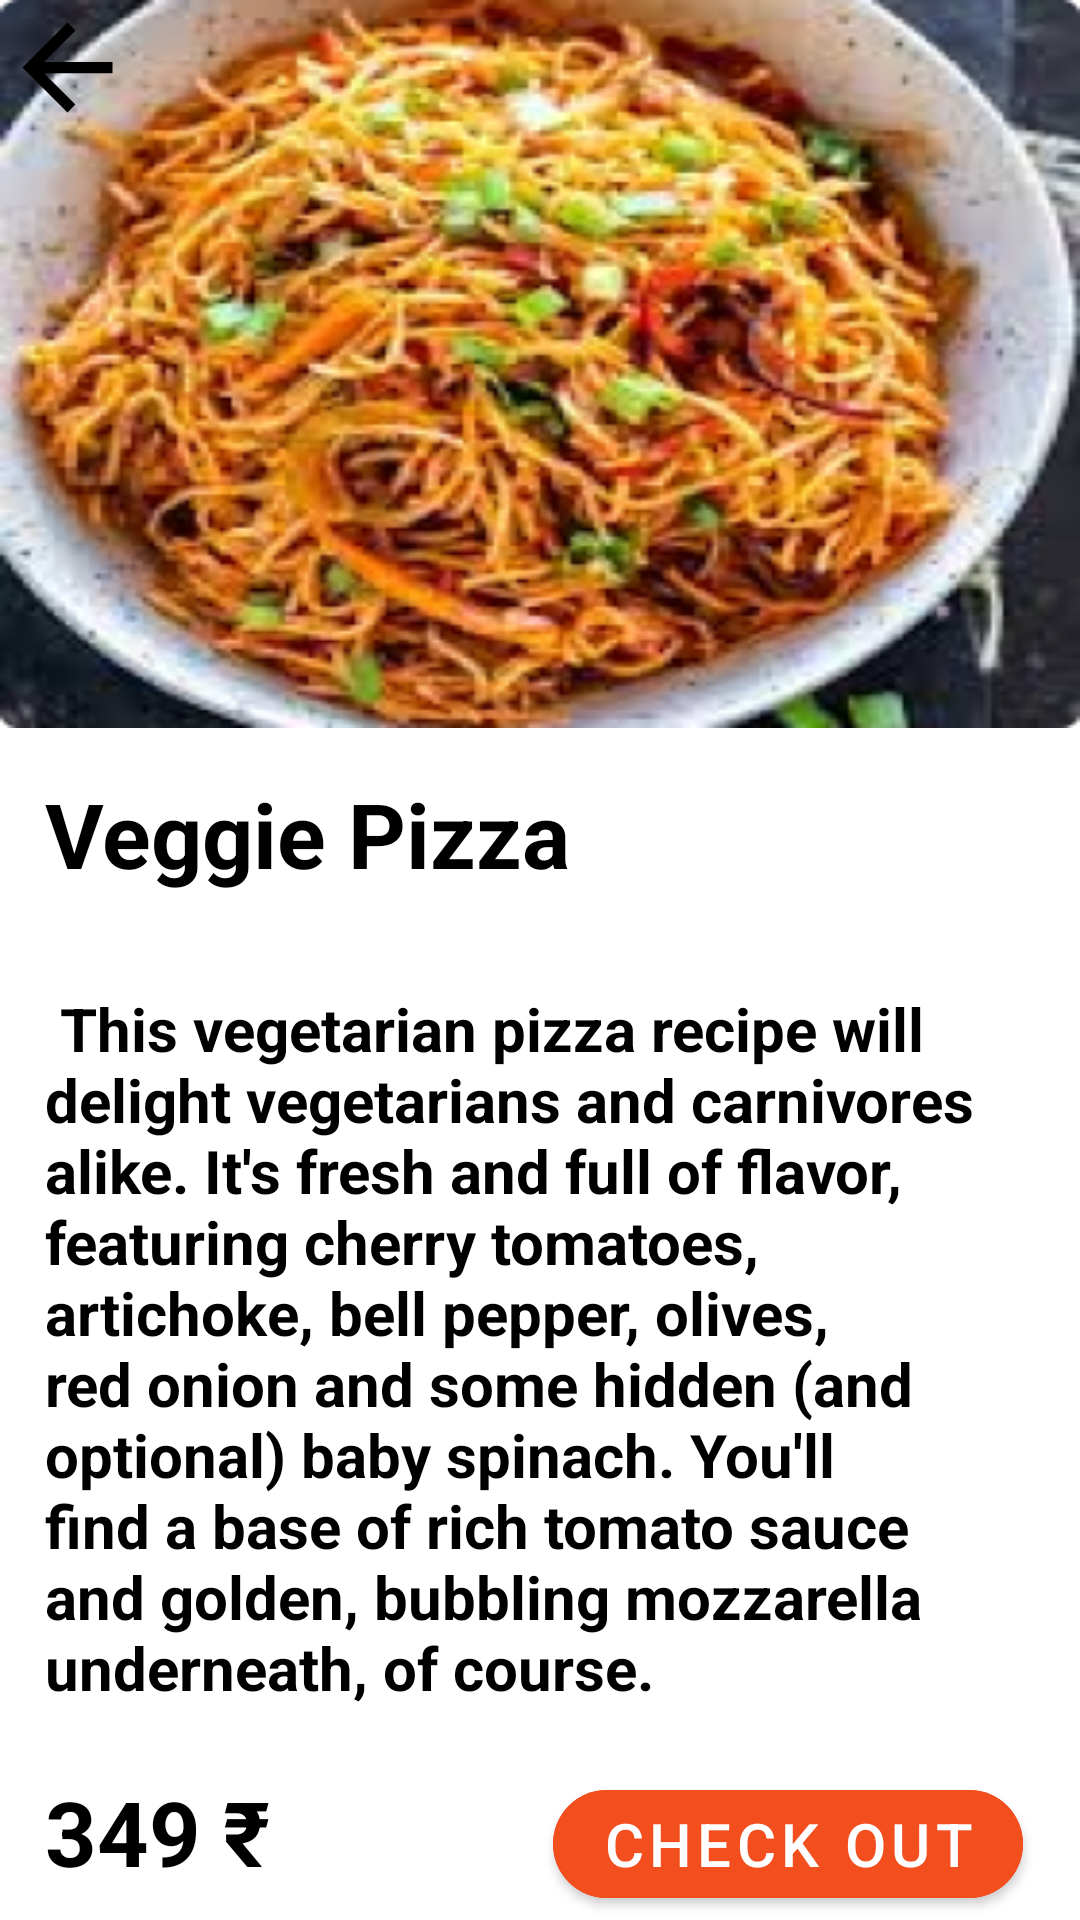

Point at icon controls on the screen. Image size 1080 × 1920, points as (x,y).
back: (67,67)
